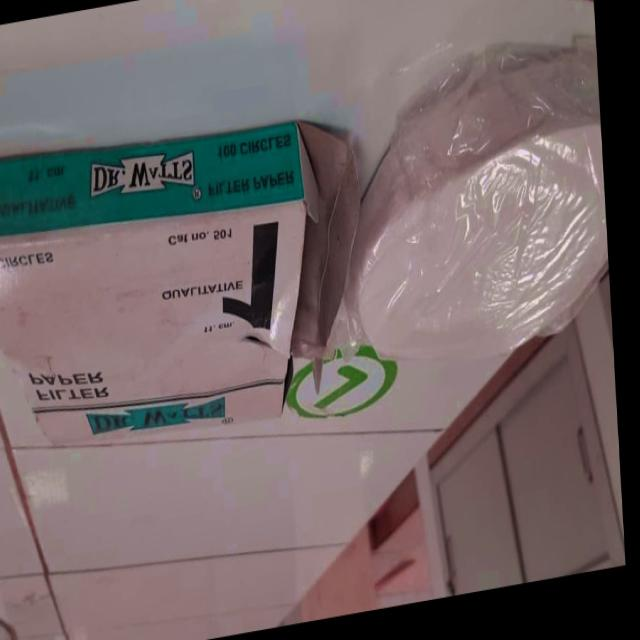Filter paper: (0, 41, 607, 463)
